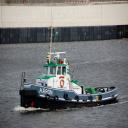tugboat: (20, 49, 120, 115)
